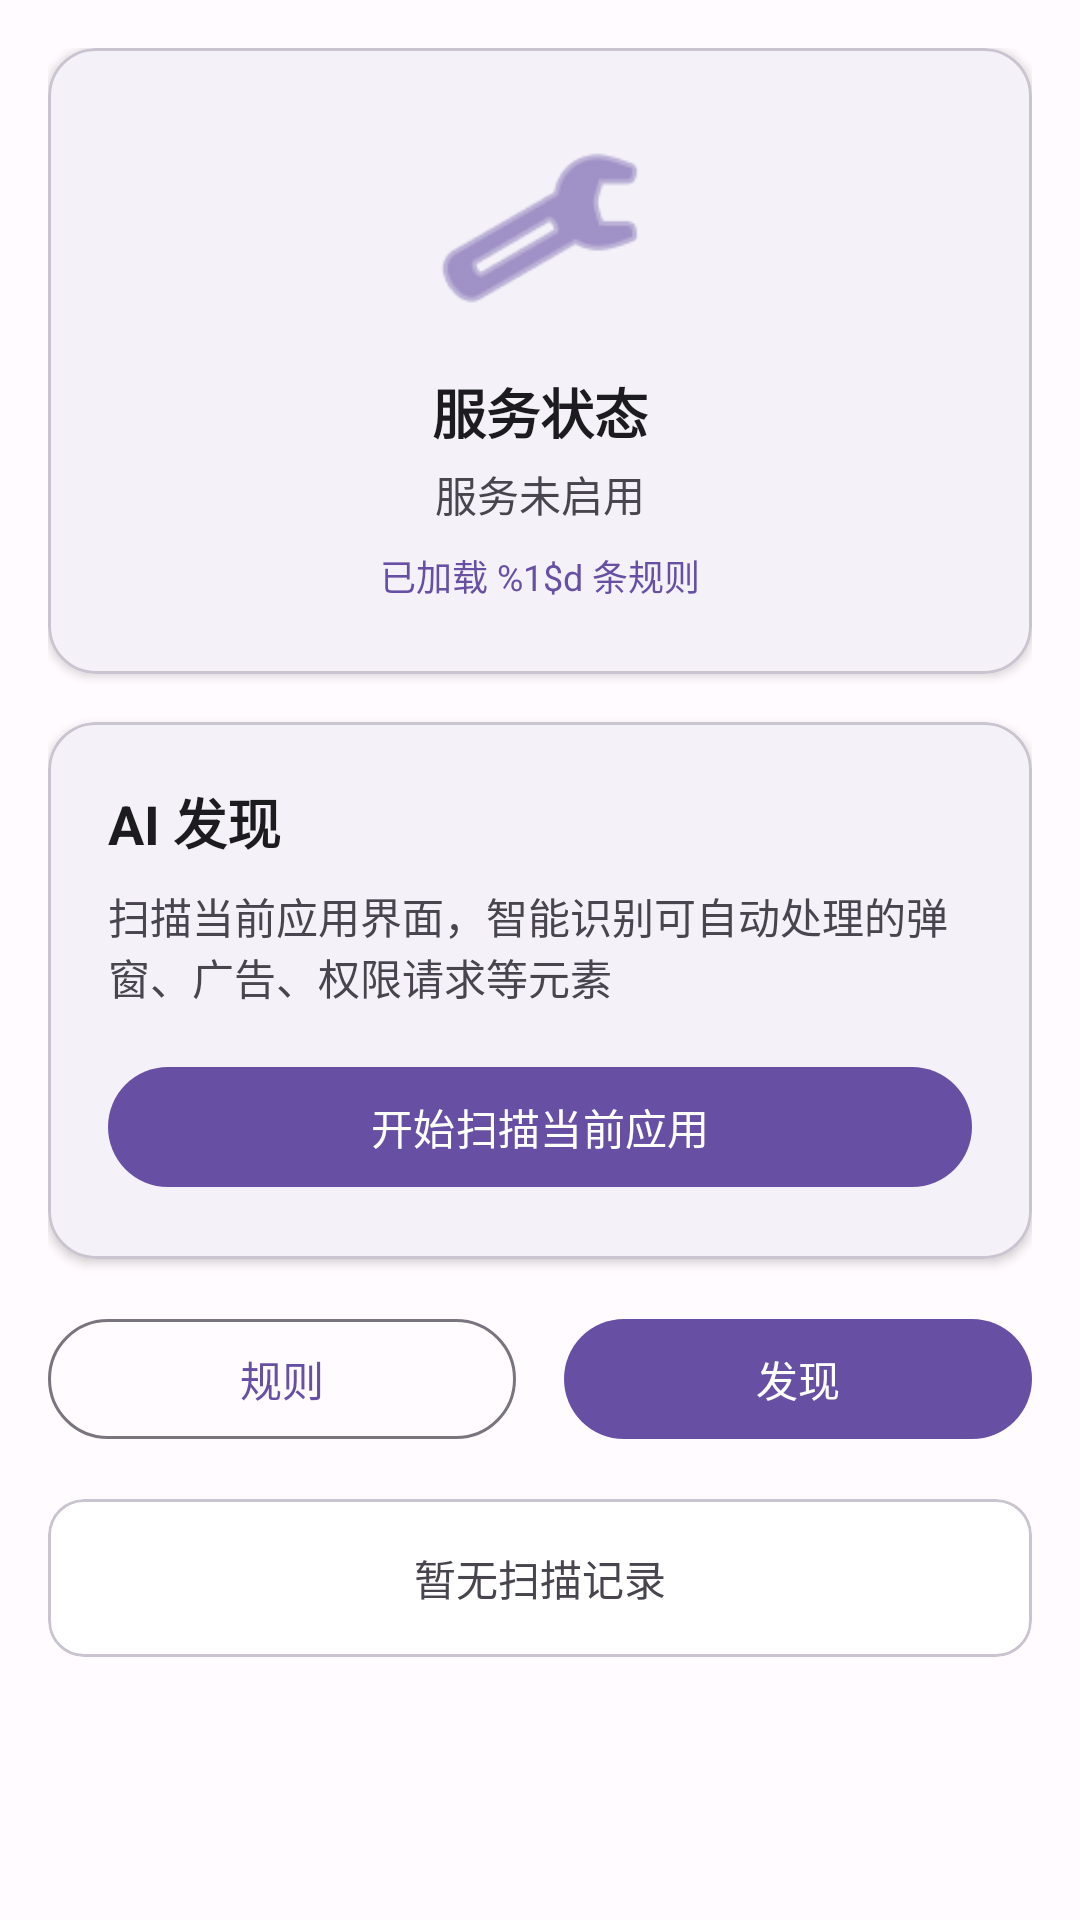

Where icons sit on this 1080 x 1920 app screen, as (x1, y1, x2, y2):
manage: (443, 154, 637, 302)
